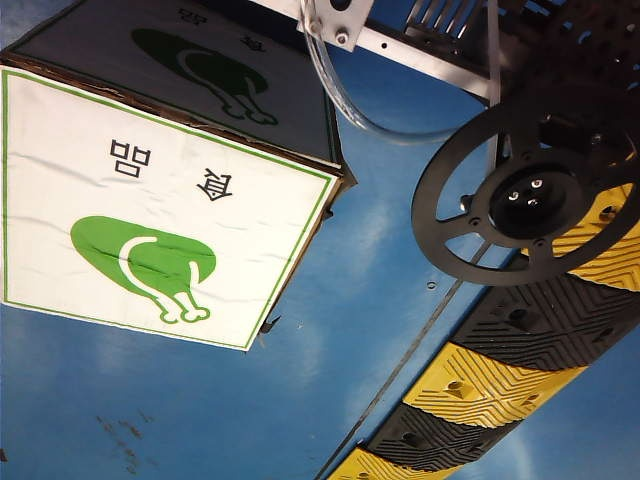Cube_food: (23, 127, 295, 329)
